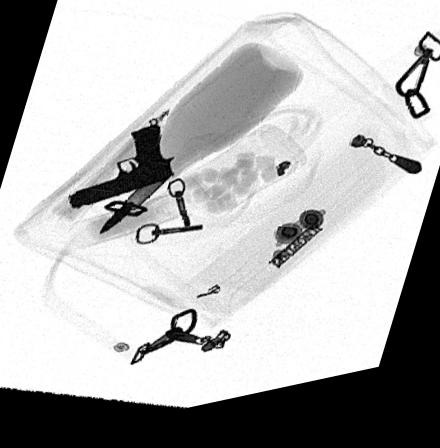Bullet: (98, 176, 172, 239)
Gun: (68, 129, 174, 213)
